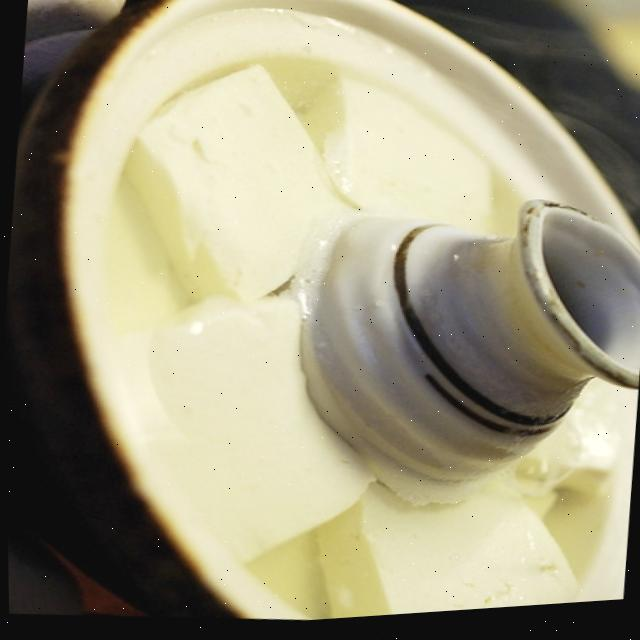豆腐料理: (9, 0, 640, 640)
